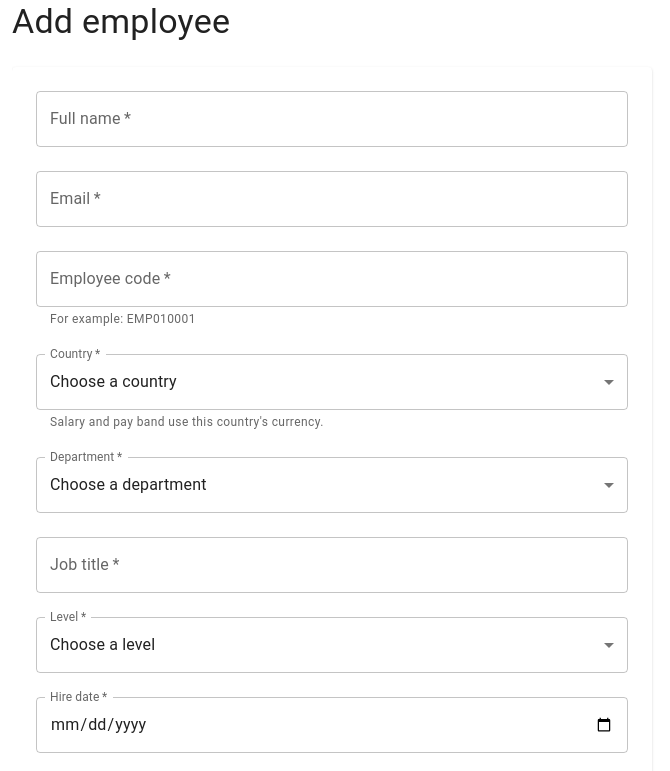
Test: NewEmployeePage › keeps salary disabled until a country is chosen, then shows that country's currency
Select "United Kingdom (GBP)" in the dropdown labelled "Country *" at coordinates (332, 382), box top-left (36, 354), bottom-right (628, 410)
(page scrolled)
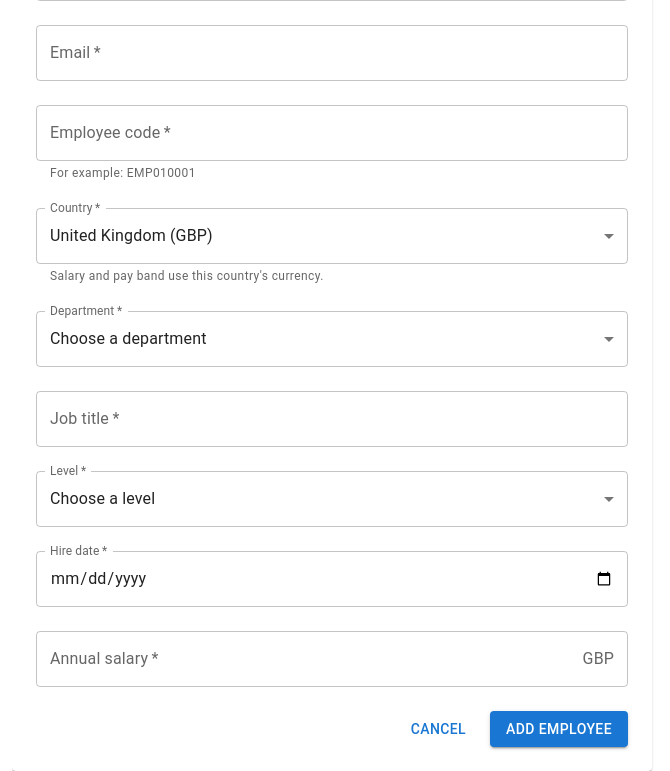
Expected: the field labelled "Annual salary *" is enabled, top-left (36, 631), bottom-right (575, 687)
Expected: the text "GBP" is shown, top-left (583, 647), bottom-right (614, 671)
